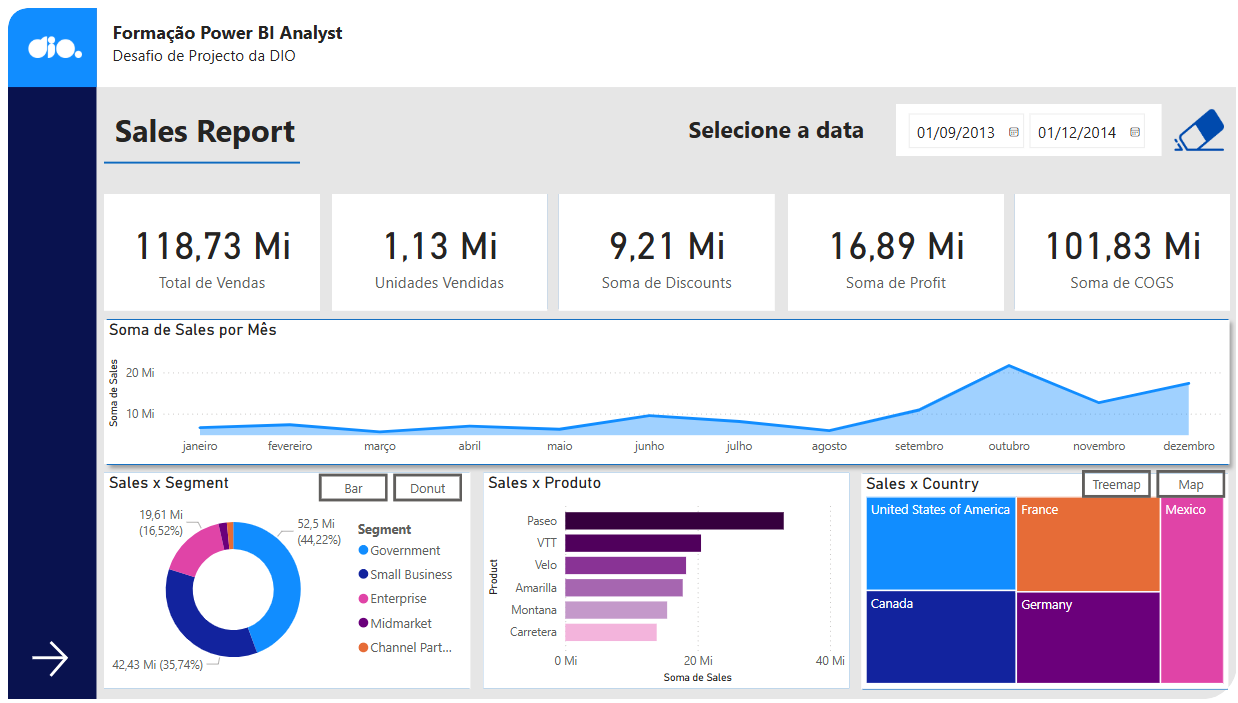

What the dashboard file says about the page in this screenshot:
{"tool":"powerbi","page":{"name":"Página 1","canvas":[1280,720],"ordinal":0},"visuals":[{"type":"shape","box":[0,0,1280,720],"z":0},{"type":"image","title":"clear_btn","box":[1210,91.7,61.7,71.7],"z":0,"group":"g2"},{"type":"shape","box":[99.8,122.9,204.3,77.1],"z":0,"group":"g5"},{"type":"shape","box":[100,194.3,224.3,120],"z":0,"group":"g1"},{"type":"textbox","box":[105.5,100,461.4,54.3],"z":1000,"group":"g5"},{"type":"slicer","fields":{"Values":["financials.Date"]},"box":[925,100,276.2,53.8],"z":1000,"group":"g2"},{"type":"shape","box":[337.1,194.3,224.3,120],"z":1000,"group":"g1"},{"type":"shape","box":[93.3,315,1186.7,170],"z":1000},{"type":"donutChart","title":"Sales x Segment","fields":{"Y":["Sum(financials. Sales)"],"Category":["financials.Segment"]},"box":[100,483.8,381.2,225],"z":1000,"group":"g4"},{"type":"treemap","title":"Sales x Country","fields":{"Group":["financials.Country"],"Values":["Sum(financials. Sales)"]},"box":[888.8,485,382.5,223.8],"z":1000,"group":"g3"},{"type":"actionButton","title":"Botão - treemap","box":[1118.8,481.1,72,29],"z":1500,"group":"g3"},{"type":"actionButton","title":"Botão - bar","box":[324,485,72,29],"z":1500,"group":"g4"},{"type":"textbox","box":[703.8,105,217.5,48.8],"z":2000,"group":"g2"},{"type":"shape","box":[574.3,194.3,224.3,120],"z":2000,"group":"g1"},{"type":"actionButton","title":"Botão - map","box":[1195.8,481.1,72,29],"z":2000,"group":"g3"},{"type":"shape","box":[100,483.3,381,225],"z":2000},{"type":"actionButton","title":"Botão - donut","box":[401,485,72,29],"z":2000,"group":"g4"},{"type":"shape","box":[0,0,92.5,720],"z":3000},{"type":"actionButton","box":[1208.8,100,62.5,55],"z":3000,"group":"g2"},{"type":"shape","box":[812.9,194.3,224.3,120],"z":3000,"group":"g1"},{"type":"shape","box":[0,0,92.9,82.9],"z":4000},{"type":"shape","box":[1048.6,194.3,224.3,120],"z":4000,"group":"g1"},{"type":"image","title":"dio_logo","box":[15.7,11.4,65.7,58.6],"z":5000},{"type":"card","fields":{"Values":["Sum(financials. Sales)"]},"box":[100,193.8,225,121.2],"z":5000,"group":"g1"},{"type":"shape","box":[92.9,0,1187.1,82.9],"z":6000},{"type":"card","fields":{"Values":["Sum(financials.Units Sold)"]},"box":[337.5,193.8,223.8,121.2],"z":6000,"group":"g1"},{"type":"textbox","box":[104.3,7.1,438.6,70],"z":7000},{"type":"card","fields":{"Values":["Sum(financials.COGS)"]},"box":[1048.8,193.8,223.8,121.2],"z":7000,"group":"g1"},{"type":"group","id":"g1","title":"Cartões","box":[100,193.8,1172.8,121.2],"z":8000},{"type":"card","fields":{"Values":["Sum(financials.Discounts)"]},"box":[573.8,193.8,225,121.2],"z":8000,"group":"g1"},{"type":"card","fields":{"Values":["Sum(financials.Profit)"]},"box":[812.5,193.8,225,121.2],"z":9000,"group":"g1"},{"type":"shape","box":[495,483.3,381.7,225],"z":9000},{"type":"shape","box":[890,485,381,225],"z":10000},{"type":"areaChart","fields":{"Category":["financials.Date.Variation.Hierarquia de datas.Mês"],"Y":["Sum(financials. Sales)"]},"box":[100,325,1172.5,150],"z":11000},{"type":"clusteredBarChart","title":"Sales x Produto","fields":{"Y":["Sum(financials. Sales)"],"Category":["financials.Product"]},"box":[495,483.8,381.2,225],"z":12000},{"type":"group","id":"g2","title":"Filtro por data","box":[703.8,91.7,567.9,71.7],"z":13000},{"type":"group","id":"g3","title":"Sales x Country","box":[888.8,481.1,383.8,227.6],"z":14000},{"type":"group","id":"g4","title":"Sales x Segment","box":[100,483.8,381.2,225],"z":15000},{"type":"group","id":"g5","title":"Title Report","box":[99.8,100,467.1,100],"z":16000},{"type":"actionButton","box":[18.3,653.3,65,48.3],"z":17000}]}

Visuals, with their boxes on the page's 1280x720 design canvas (x1, y1, x2, y2). These are canvas units, not pixel positions in the 1238x703 screenshot, which may show the page scaled, cropped or inside an application window:
shape: box=[0, 0, 1280, 720]
"clear_btn" image: box=[1210, 92, 1272, 163]
shape: box=[100, 123, 304, 200]
shape: box=[100, 194, 324, 314]
textbox: box=[106, 100, 567, 154]
slicer - financials.Date: box=[925, 100, 1201, 154]
shape: box=[337, 194, 561, 314]
shape: box=[93, 315, 1280, 485]
"Sales x Segment" donutChart: box=[100, 484, 481, 709]
"Sales x Country" treemap: box=[889, 485, 1271, 709]
"Botão - treemap" actionButton: box=[1119, 481, 1191, 510]
"Botão - bar" actionButton: box=[324, 485, 396, 514]
textbox: box=[704, 105, 921, 154]
shape: box=[574, 194, 799, 314]
"Botão - map" actionButton: box=[1196, 481, 1268, 510]
shape: box=[100, 483, 481, 708]
"Botão - donut" actionButton: box=[401, 485, 473, 514]
shape: box=[0, 0, 92, 720]
actionButton: box=[1209, 100, 1271, 155]
shape: box=[813, 194, 1037, 314]
shape: box=[0, 0, 93, 83]
shape: box=[1049, 194, 1273, 314]
"dio_logo" image: box=[16, 11, 81, 70]
card - Sum(financials. Sales): box=[100, 194, 325, 315]
shape: box=[93, 0, 1280, 83]
card - Sum(financials.Units Sold): box=[338, 194, 561, 315]
textbox: box=[104, 7, 543, 77]
card - Sum(financials.COGS): box=[1049, 194, 1273, 315]
"Cartões" group: box=[100, 194, 1273, 315]
card - Sum(financials.Discounts): box=[574, 194, 799, 315]
card - Sum(financials.Profit): box=[812, 194, 1038, 315]
shape: box=[495, 483, 877, 708]
shape: box=[890, 485, 1271, 710]
areaChart - financials.Date.Variation.Hierarquia de datas.Mês x Sum(financials. Sales): box=[100, 325, 1272, 475]
"Sales x Produto" clusteredBarChart: box=[495, 484, 876, 709]
"Filtro por data" group: box=[704, 92, 1272, 163]
"Sales x Country" group: box=[889, 481, 1273, 709]
"Sales x Segment" group: box=[100, 484, 481, 709]
"Title Report" group: box=[100, 100, 567, 200]
actionButton: box=[18, 653, 83, 702]
